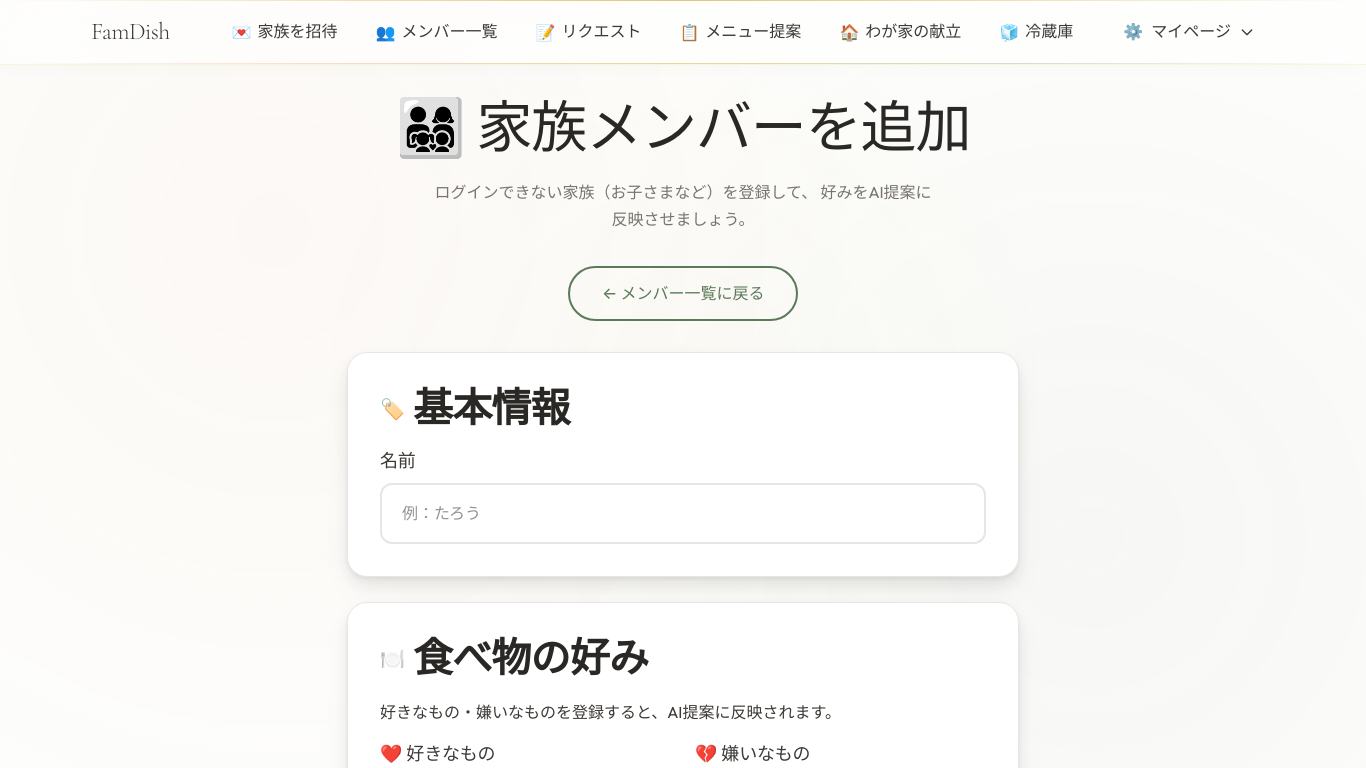
Test: InviteMemberPage › 送信失敗時にエラーメッセージを表示する
Type "たろう" into the field with placeholder "例：たろう".
click(683, 514); type("たろう")  # box [380,483,986,545]
(page scrolled)
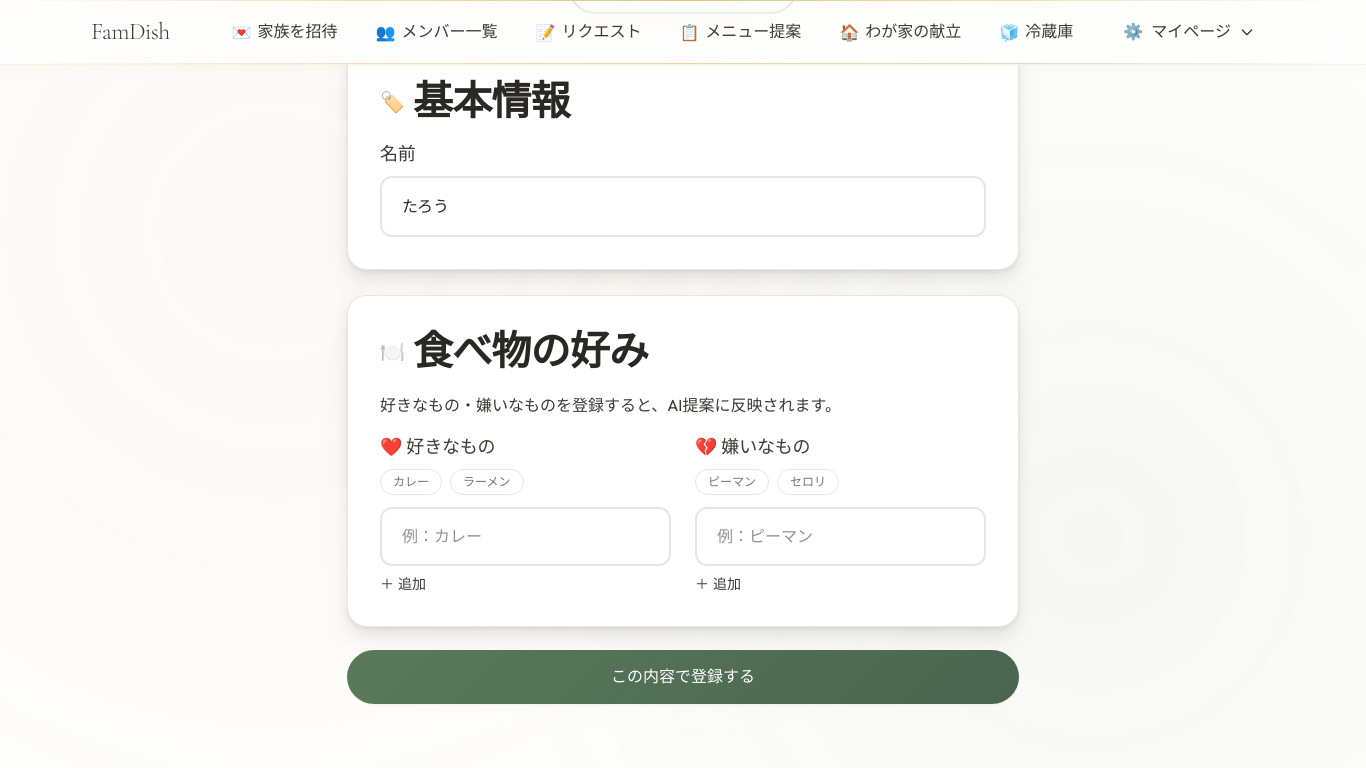
Click the button "この内容で登録する".
click(683, 677)  # box [347,650,1019,704]
(page scrolled)
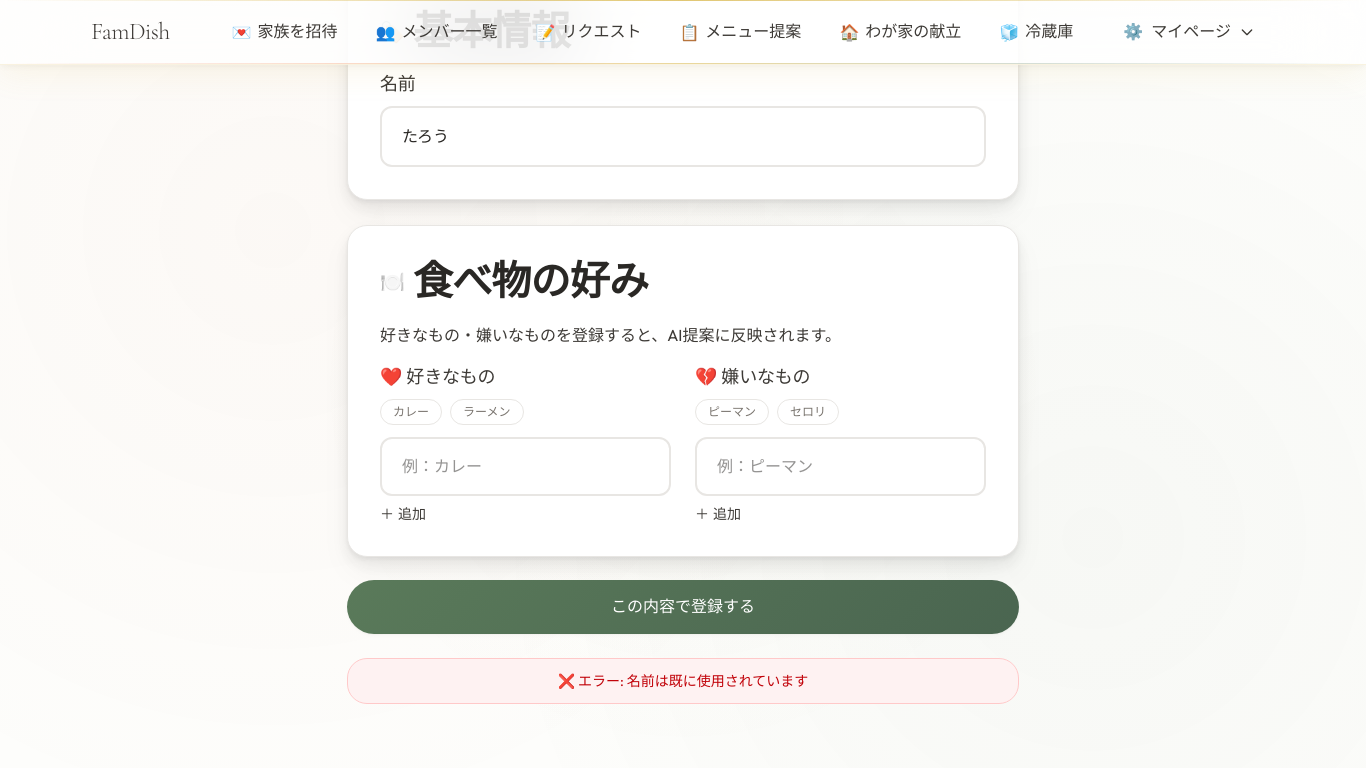
Now the text "❌ エラー: 名前は既に使用されています" is shown, box [347,658,1019,704]
